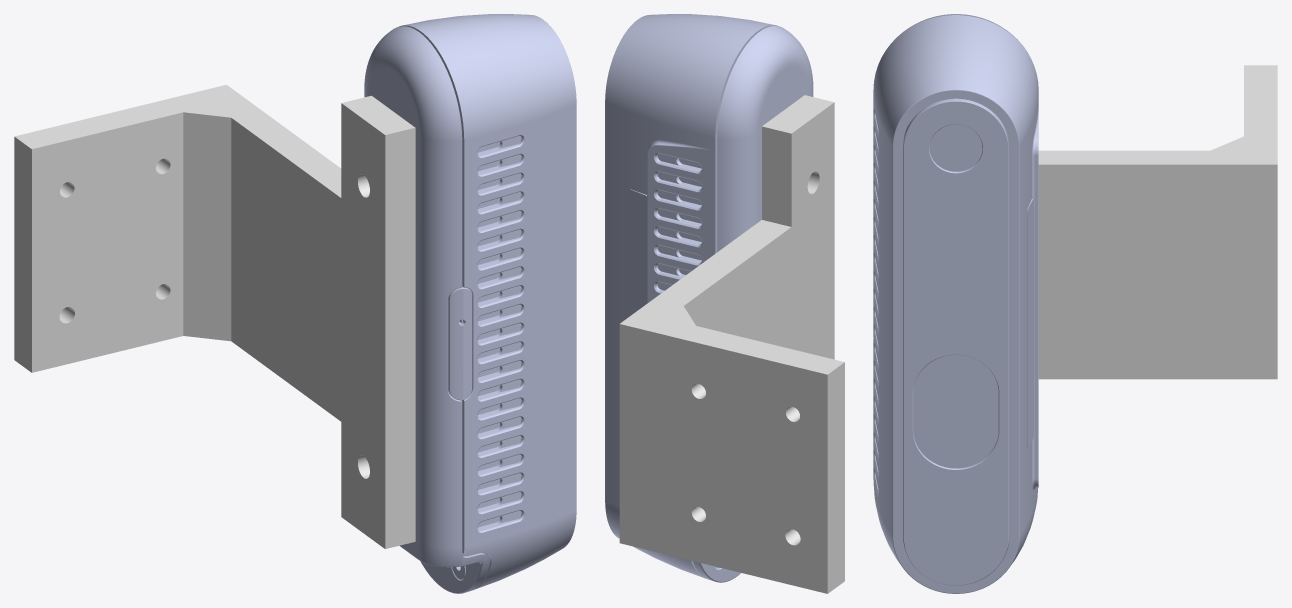
Rendered from rby1_camera_mount_realsense.obj.
3 views of the same model, side by side, from view 1: azimuth 30°, elevation 25°; view 2: azimuth 150°, elevation 25°; view 3: azimuth 270°, elevation 25° (orthographic). The views are drawn at different scales.
Visible parts, largest first — view 1: mesh15, mesh6, mesh429, mesh51, mesh12, mesh7, mesh53, mesh121, mesh120, mesh8, mesh122, mesh2 (+9 smaller); view 2: mesh1, mesh15, mesh53, mesh61, mesh8, mesh122, mesh252, mesh123, mesh2, mesh52, mesh14, mesh62 (+8 smaller); view 3: mesh16, mesh22, mesh45, mesh39, mesh53, mesh8, mesh52, mesh51, mesh61, mesh429, mesh19, mesh62 (+6 smaller).
Part boxes in pixels (left/top/right/bottom): mesh15: left=231, top=103, right=385, bottom=548; mesh6: left=32, top=112, right=183, bottom=372; mesh429: left=464, top=118, right=541, bottom=546; mesh51: left=542, top=104, right=576, bottom=523; mesh12: left=385, top=127, right=415, bottom=548; mesh7: left=183, top=112, right=231, bottom=341; mesh53: left=403, top=14, right=541, bottom=140; mesh121: left=418, top=134, right=462, bottom=344; mesh120: left=418, top=337, right=462, bottom=547; mesh8: left=14, top=84, right=341, bottom=197; mesh122: left=364, top=26, right=462, bottom=141; mesh2: left=14, top=137, right=31, bottom=372; mesh1: left=619, top=324, right=827, bottom=593; mesh15: left=684, top=102, right=834, bottom=359; mesh53: left=639, top=14, right=776, bottom=138; mesh61: left=605, top=102, right=638, bottom=506; mesh8: left=620, top=220, right=844, bottom=374; mesh122: left=717, top=26, right=813, bottom=139; mesh252: left=647, top=145, right=715, bottom=303; mesh123: left=717, top=132, right=760, bottom=251; mesh2: left=827, top=362, right=844, bottom=593; mesh52: left=605, top=14, right=689, bottom=115; mesh14: left=762, top=126, right=791, bottom=226; mesh62: left=628, top=189, right=646, bottom=317; mesh16: left=1038, top=164, right=1277, bottom=379; mesh22: left=904, top=101, right=1008, bottom=585; mesh45: left=893, top=90, right=1018, bottom=593; mesh39: left=913, top=355, right=998, bottom=468; mesh53: left=873, top=15, right=1038, bottom=127; mesh8: left=1038, top=65, right=1277, bottom=164; mesh52: left=882, top=61, right=1029, bottom=146; mesh51: left=882, top=129, right=892, bottom=535; mesh61: left=1019, top=129, right=1029, bottom=535; mesh429: left=873, top=90, right=881, bottom=516; mesh19: left=929, top=124, right=982, bottom=171; mesh62: left=1028, top=199, right=1033, bottom=446.
Bounding box in the file's own units: 0.0611 × 0.0899 × 0.0611.
